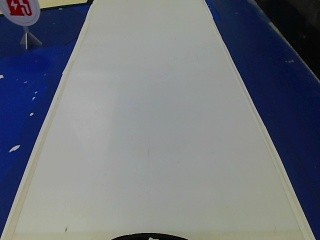battery: (0, 0, 41, 26)
